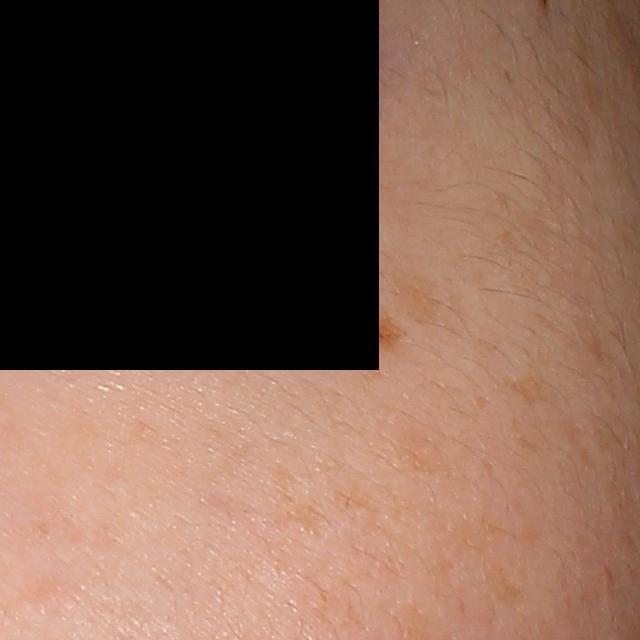melasma: (267, 456, 338, 542), (459, 556, 529, 617), (494, 369, 574, 417), (391, 266, 444, 327), (349, 308, 408, 356), (564, 318, 612, 369), (330, 482, 378, 518)
